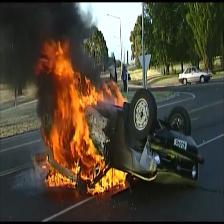fire: (31, 39, 152, 203)
smoke: (1, 4, 122, 94)
